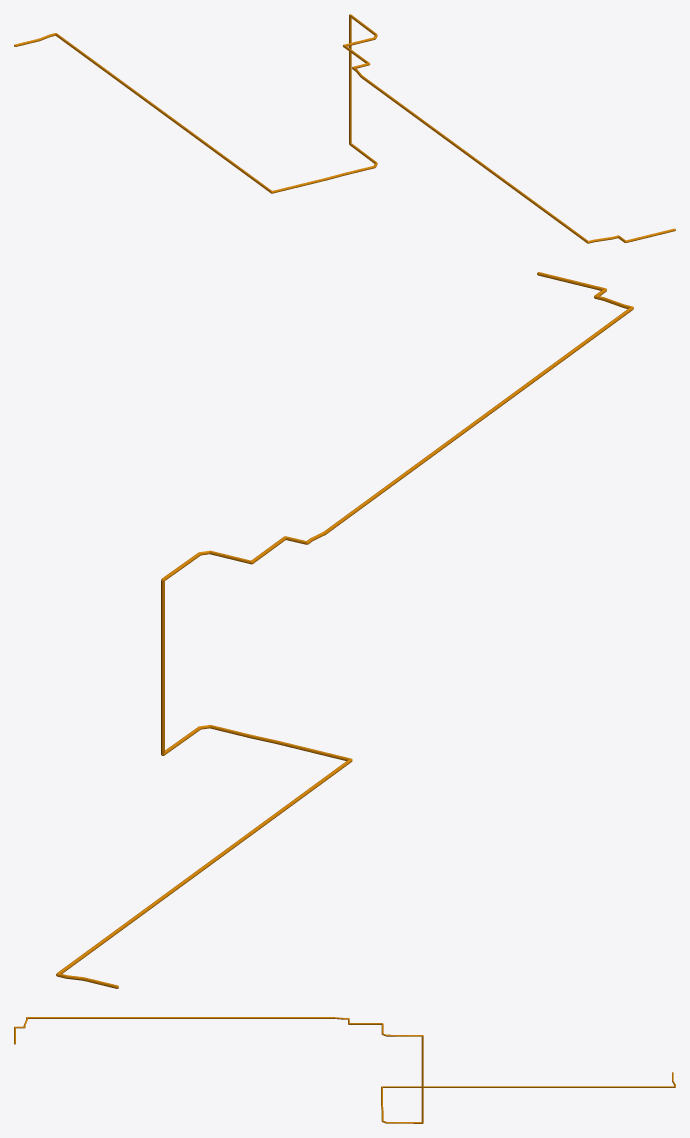
3 renders of one model, top to bottom at view 1: azimuth 30°, elevation 25°; view 2: azimuth 150°, elevation 25°; view 3: azimuth 270°, elevation 25°, orthographic. The views are drawn at different scales.
Bounding box in the file's own units: 1440 × 1020 × 6891.
